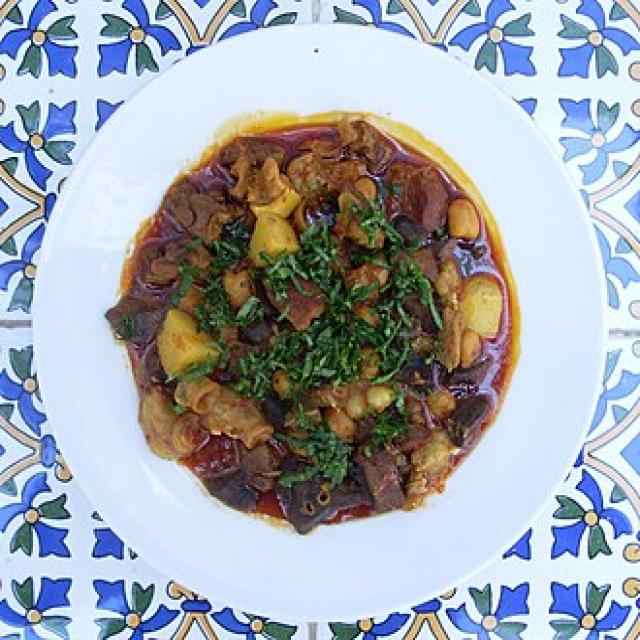kamouniya: (87, 63, 574, 551)
